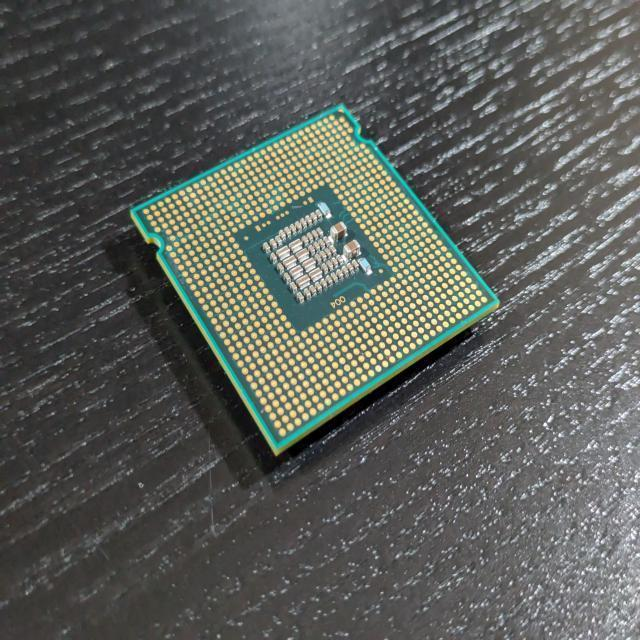CPU: (130, 102, 500, 454)
